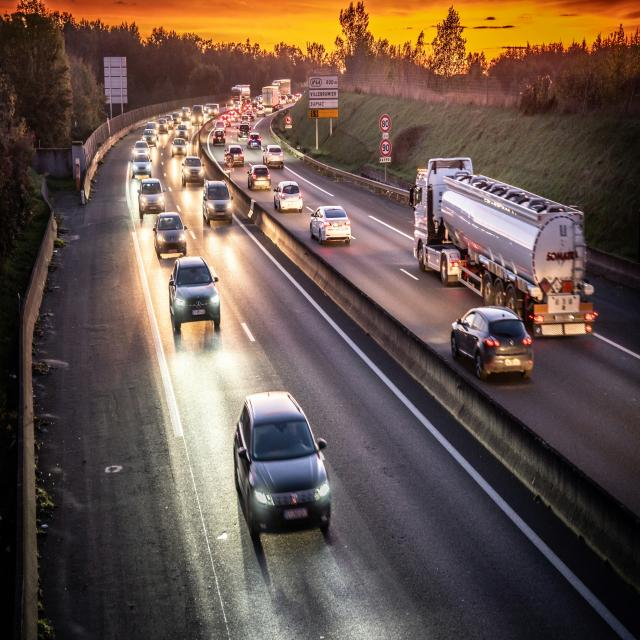Trucks: (410, 158, 595, 336), (262, 86, 280, 112), (232, 85, 250, 103), (273, 80, 291, 95)
